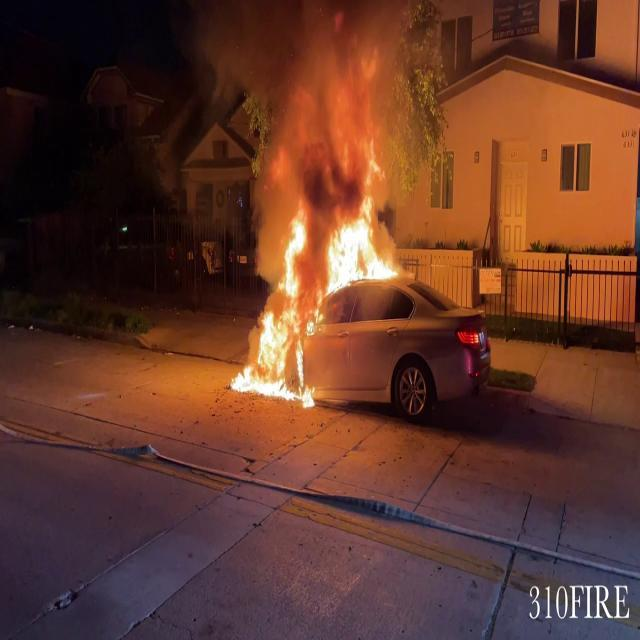Fire: (228, 205, 324, 402), (324, 124, 406, 298)
Smoke: (212, 0, 388, 204)
